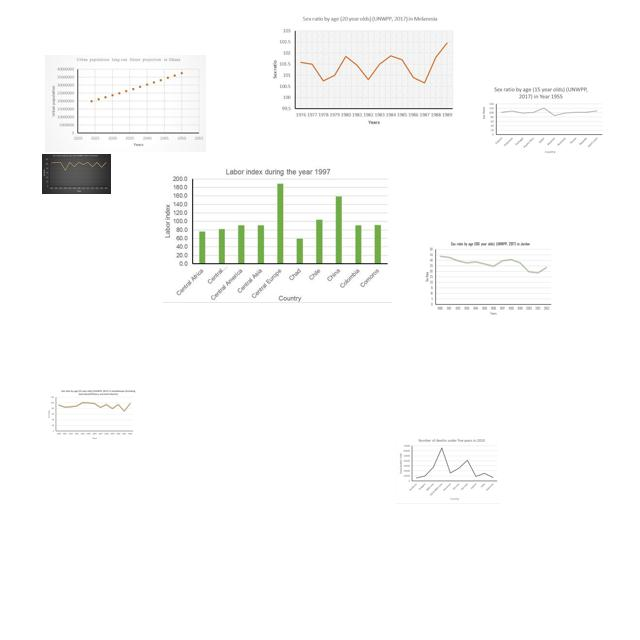Graph: (163, 166, 392, 303), (268, 14, 457, 129), (45, 55, 206, 152), (423, 240, 553, 318), (481, 84, 604, 154), (396, 436, 500, 504), (45, 388, 138, 442), (42, 154, 111, 194)
